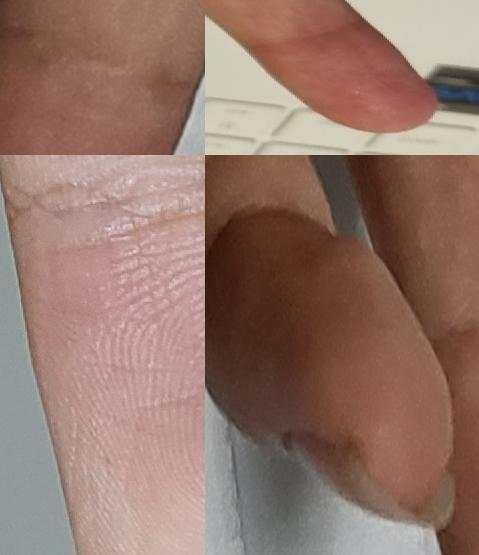Fingerprints: (205, 209, 453, 508), (12, 215, 205, 555), (0, 28, 197, 155), (247, 19, 440, 133)
